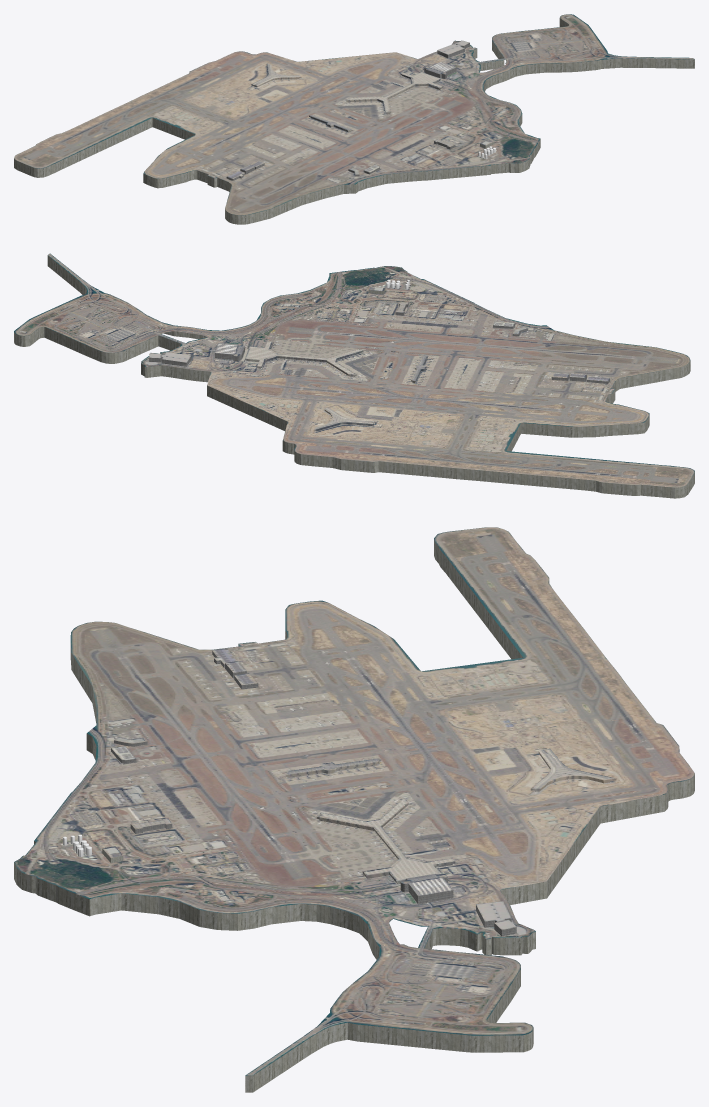
File: airport.fbx
3 views of the same model, one above another, from view 1: azimuth 30°, elevation 25°; view 2: azimuth 150°, elevation 25°; view 3: azimuth 270°, elevation 25° (orthographic). The views are drawn at different scales.
Parts seen in each view (by area): view 1: Airport, Bulldings (×2); view 2: Airport, Bulldings (×4); view 3: Airport, Bulldings (×3).
Part boxes in pixels (x1,y1,x2,y2): Airport: (14, 14, 694, 224); Bulldings (×2): (251, 62, 456, 132); Airport: (14, 253, 694, 498); Bulldings (×4): (149, 341, 609, 431); Airport: (14, 527, 694, 1092); Bulldings (×3): (285, 748, 616, 936).
Bounding box in the file's own units: 126 × 2.69 × 65.91.
Materials: 10 (9 with a texture image).
